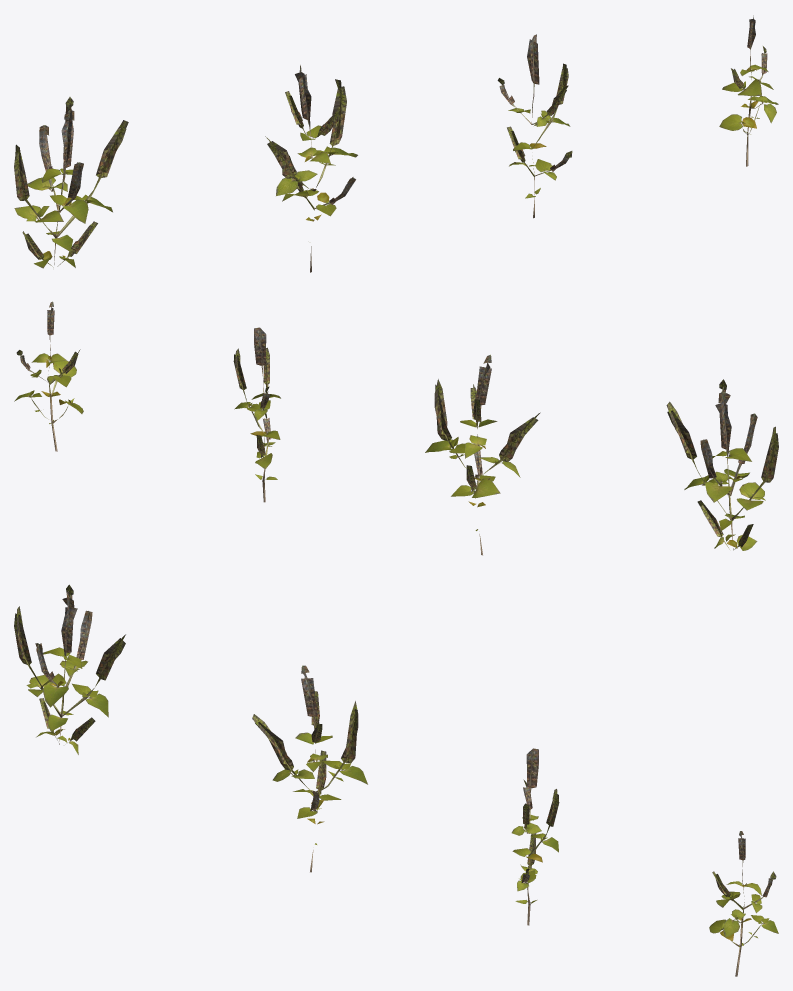
File: shrub_03-low.glb
3 renders of one model, top to bottom at view 1: azimuth 30°, elevation 25°; view 2: azimuth 150°, elevation 25°; view 3: azimuth 330°, elevation 25°, orthographic. The views are drawn at different scales.
Parts seen in each view (by area): view 1: shrub_03_a, shrub_03_b, shrub_03_c, shrub_03_d; view 2: shrub_03_a, shrub_03_b, shrub_03_c, shrub_03_d; view 3: shrub_03_a, shrub_03_b, shrub_03_c, shrub_03_d.
Boxes of the visible parts, left/top/right/bottom form: shrub_03_a: left=14, top=97, right=128, bottom=268; shrub_03_b: left=265, top=65, right=357, bottom=272; shrub_03_c: left=497, top=34, right=572, bottom=218; shrub_03_d: left=719, top=15, right=778, bottom=166; shrub_03_a: left=666, top=379, right=778, bottom=550; shrub_03_b: left=425, top=354, right=540, bottom=555; shrub_03_c: left=233, top=327, right=280, bottom=502; shrub_03_d: left=14, top=301, right=83, bottom=451; shrub_03_a: left=14, top=584, right=125, bottom=754; shrub_03_b: left=252, top=665, right=367, bottom=872; shrub_03_c: left=511, top=748, right=559, bottom=925; shrub_03_d: left=709, top=831, right=778, bottom=976.
Bounding box in the file's own units: 1.37 × 0.4019 × 0.1512.
Materials: 1 (1 with a texture image).
